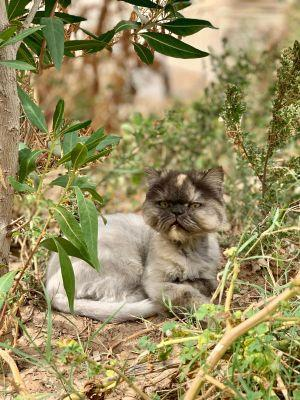persian: (136, 165, 234, 247)
